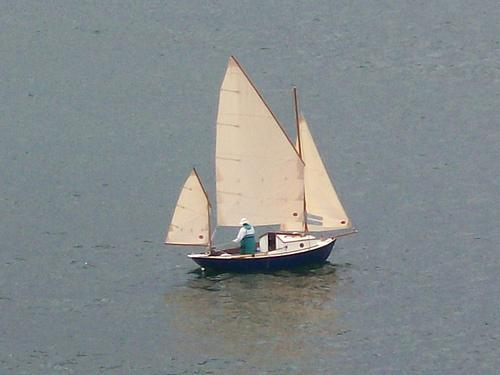Ship: (166, 54, 354, 276)
